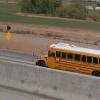Bus: (38, 41, 100, 75)
